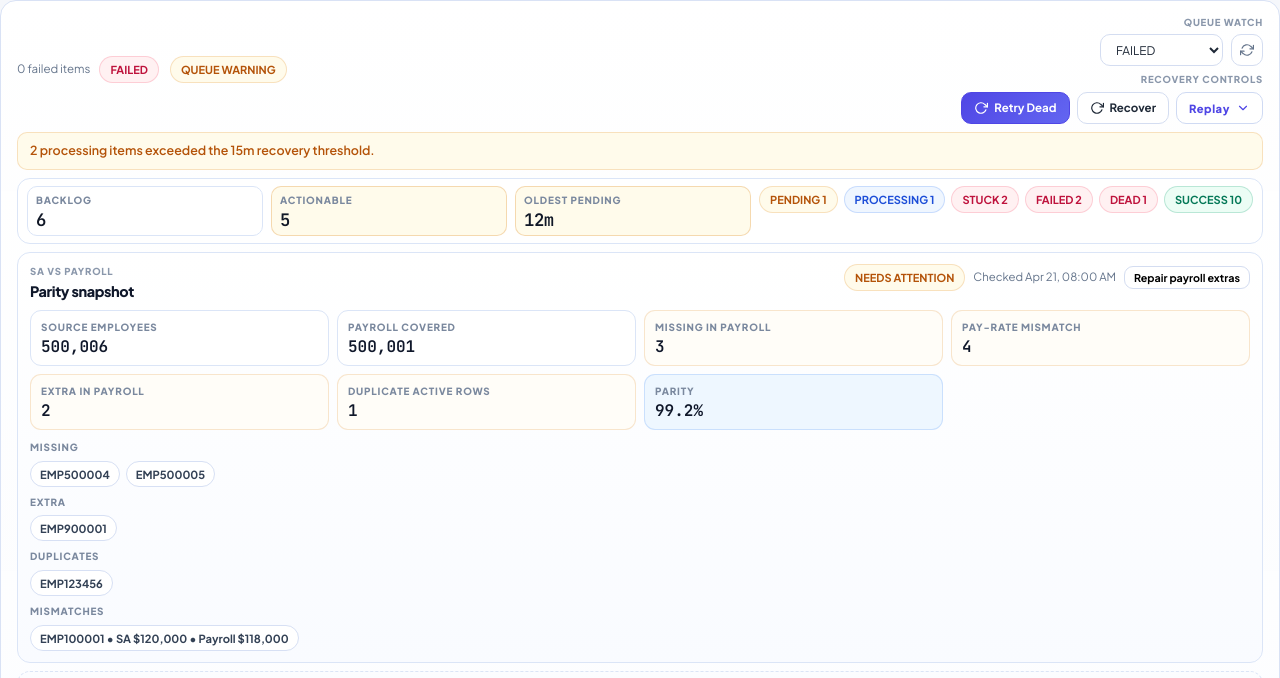
Test: IntegrationEventsPanel › repairs extra active payroll rows from the parity snapshot
The width and height of the screenshot is (1280, 678).
Click the button "Repair payroll extras" at [1187, 278], box [1124,266,1250,289]
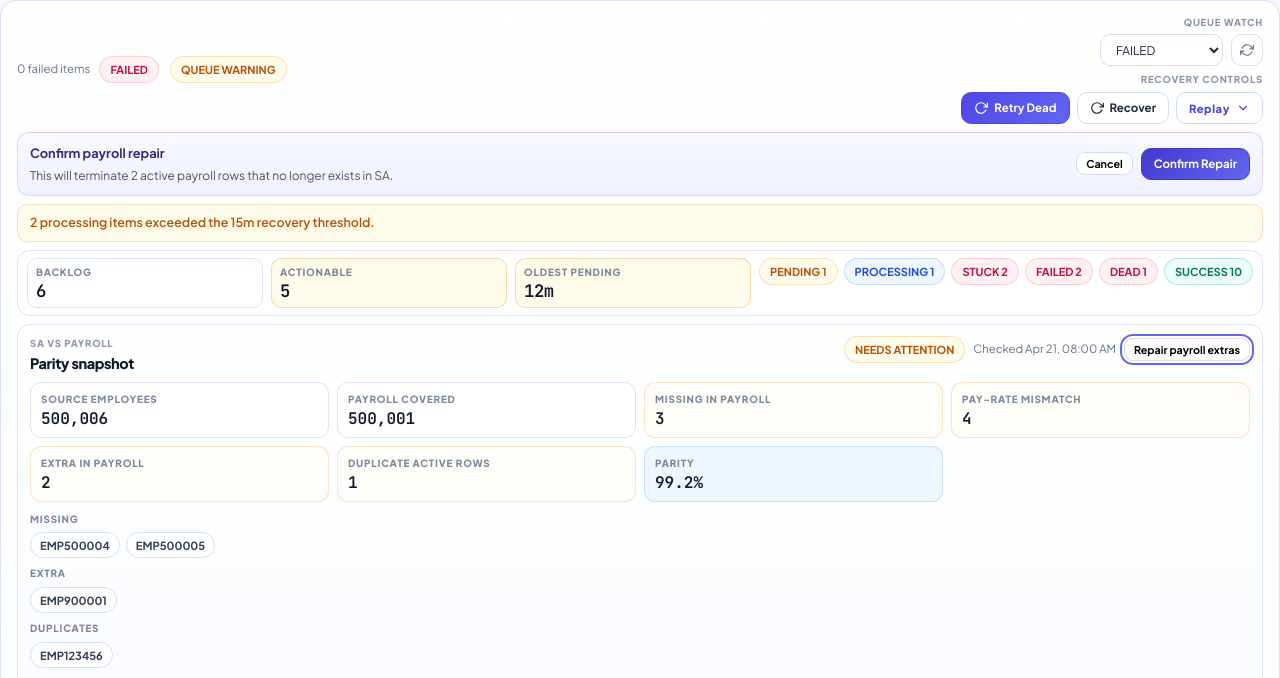
Expected: the text "Confirm payroll repair" is shown, [30,145,165,161]
Click the button "Confirm Repair" at [1195, 164], box [1141,148,1250,180]
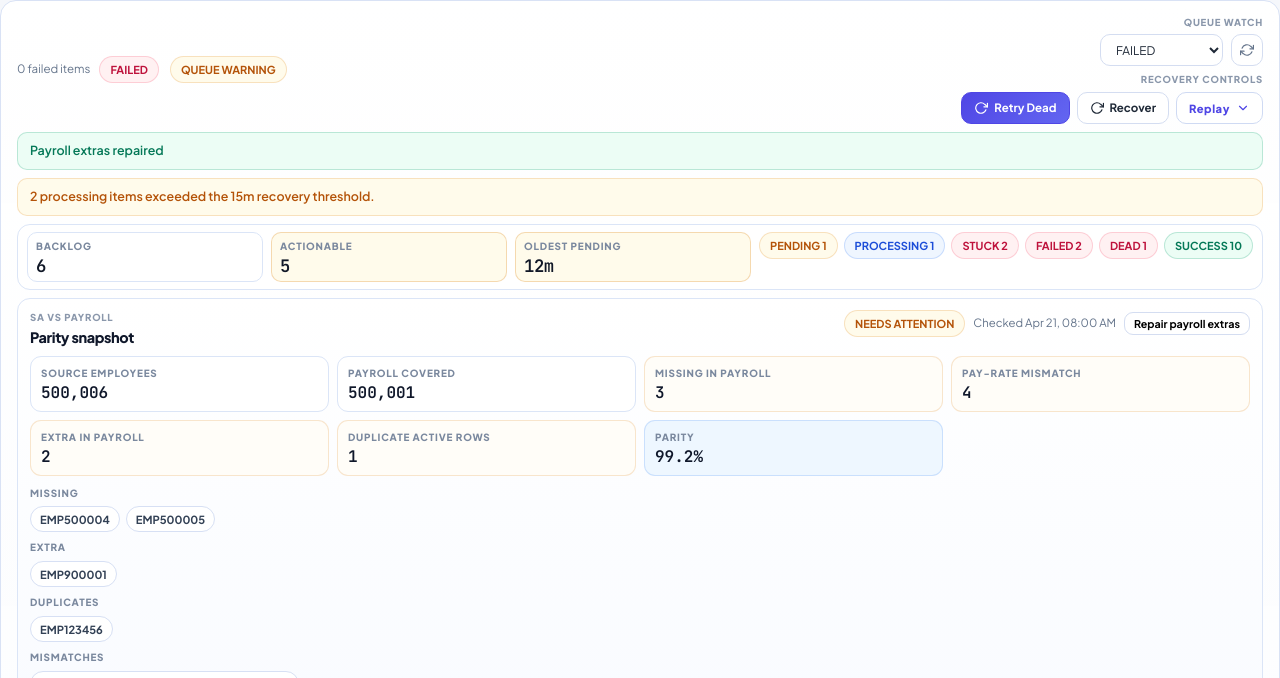
Expected: the text "Payroll extras repaired" is shown, [30,142,164,158]
